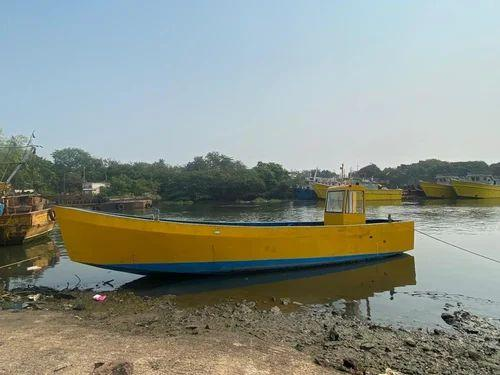fishing boat: (49, 176, 416, 278), (0, 186, 54, 249), (310, 172, 406, 202), (447, 170, 500, 200), (420, 172, 452, 200)
